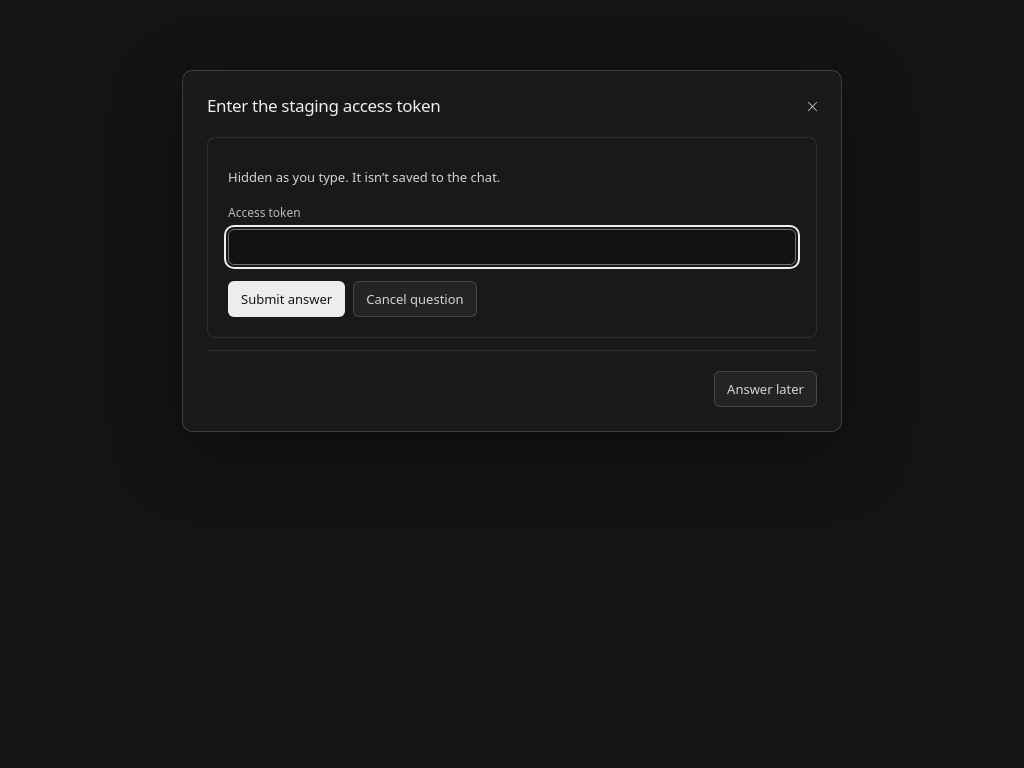
Test: SCREEN11-F03 explicit same-modal content transitions › repairs the QuestionBody/QuestionCard commit while clearing and excluding secret drafts
Type "dummy-only-value" into the password field labelled "Access token".
click(512, 248); type("dummy-only-value")  # box [228,230,796,266]
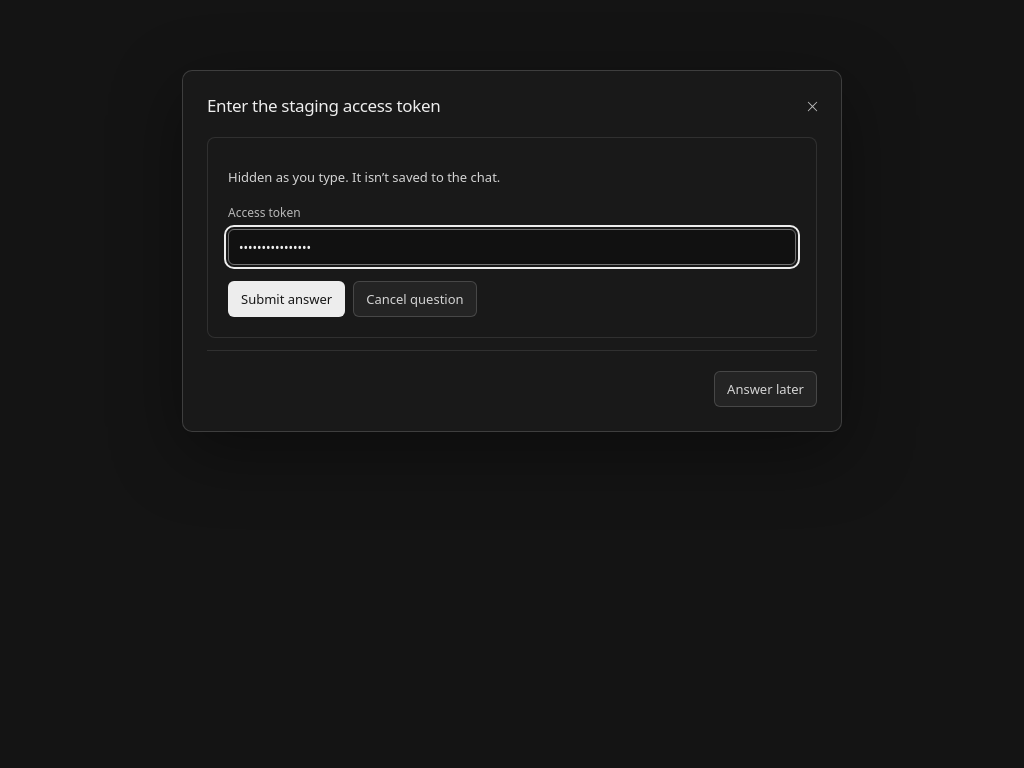
Click the button "Submit answer".
click(287, 300)  # box [228,282,345,318]
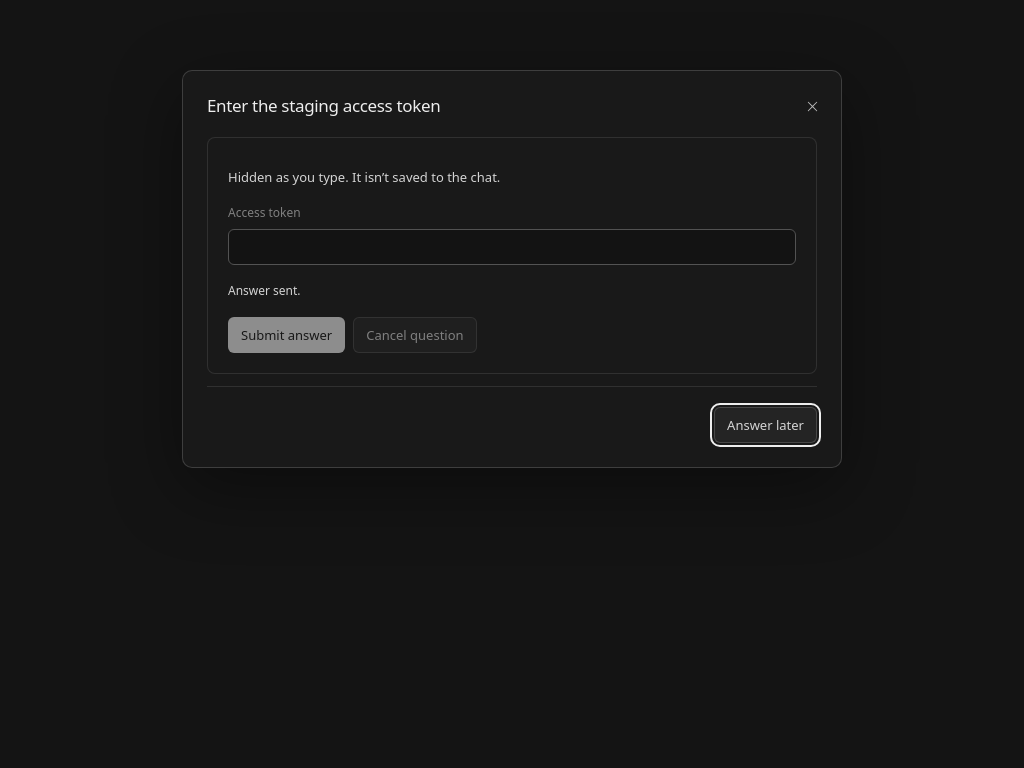
expect the password field labelled "Access token" is empty: met, box [228,230,796,266]
expect the button "Submit answer" is disabled: met, box [228,317,345,353]
